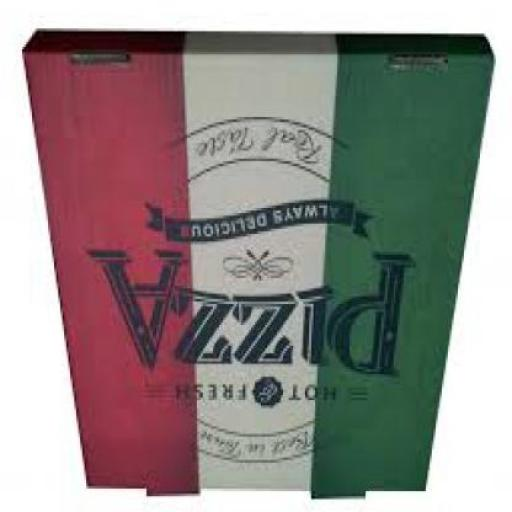cardboard: (24, 32, 498, 502)
